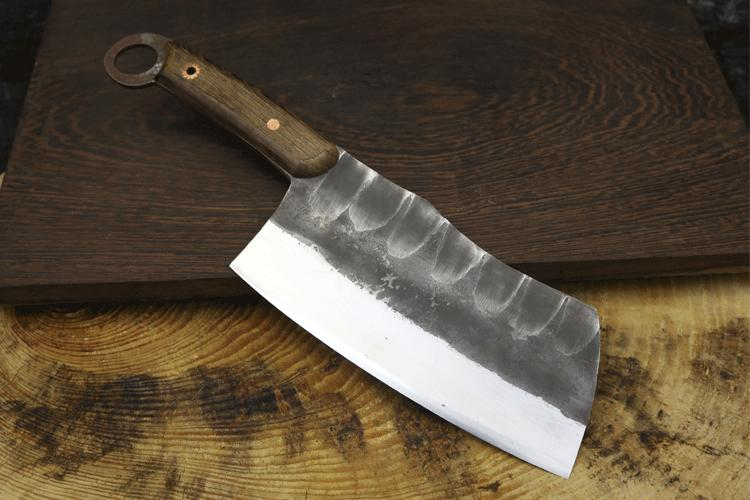knife: (83, 23, 704, 491)
